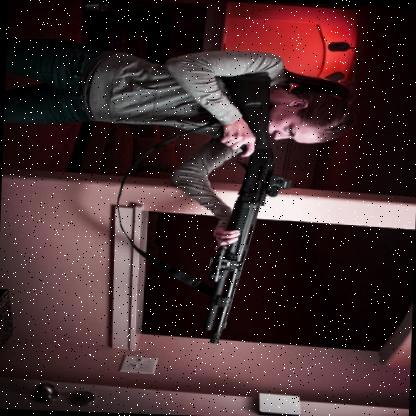rifle: (182, 67, 298, 351)
